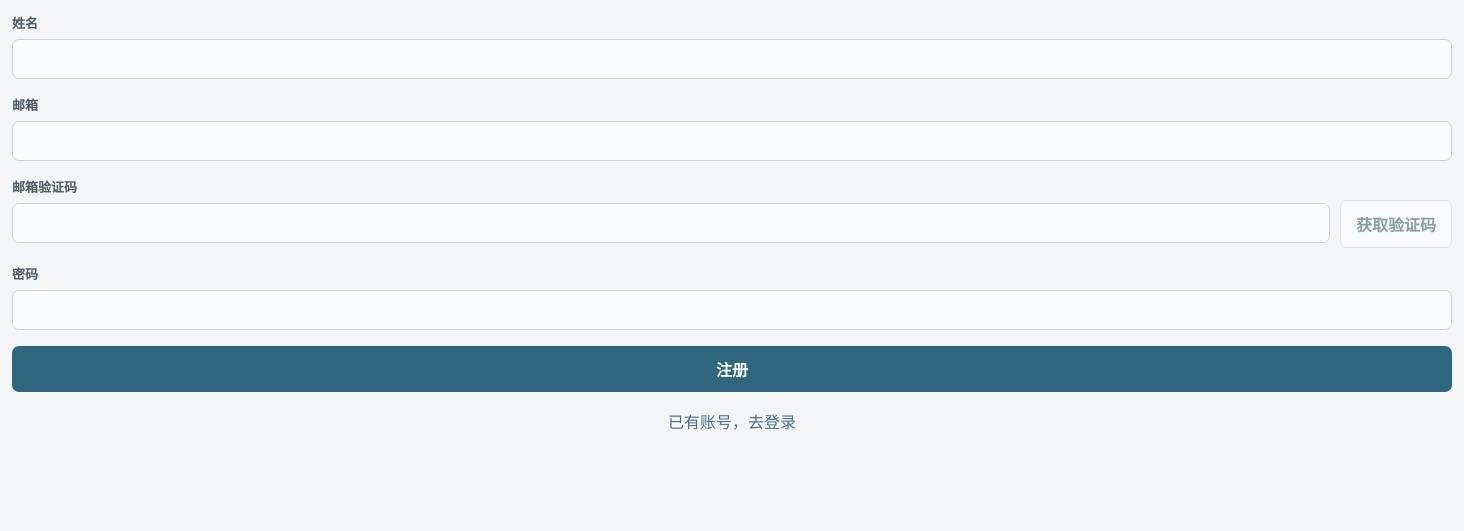
Scenario: web app › shows Chinese field errors without sending an incomplete registration
The width and height of the screenshot is (1464, 531).
Click the button "注册". click: (732, 369)
box: [12, 346, 1452, 392]
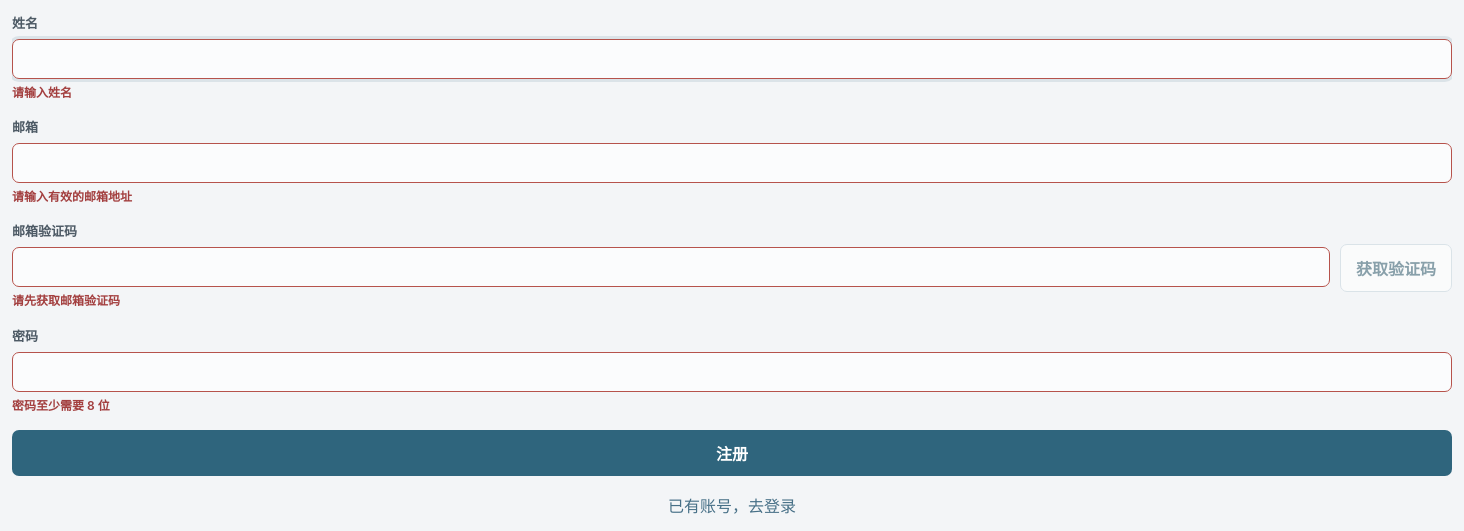
Expected: the text "请输入姓名" is shown, [12, 85, 72, 100]
Expected: the text "请输入有效的邮箱地址" is shown, [12, 189, 132, 204]
Expected: the text "请先获取邮箱验证码" is shown, [12, 293, 120, 308]
